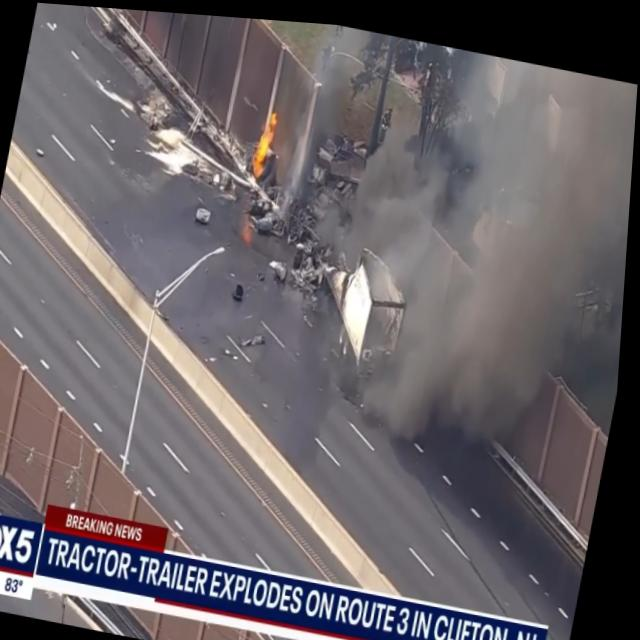Fire: (245, 100, 282, 178)
